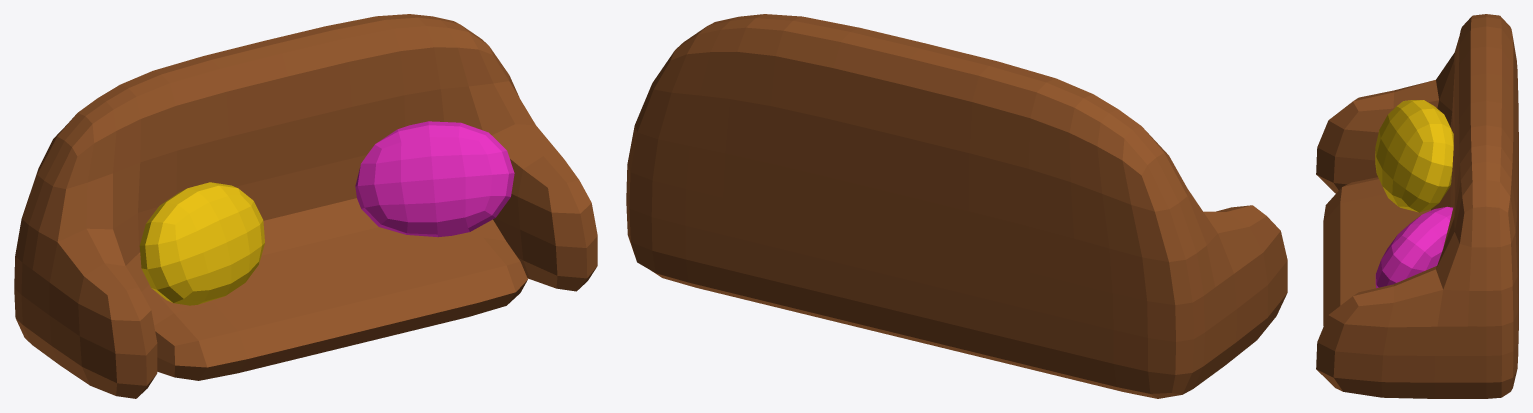
The model's file is Sofa.fbx.
3 views of the same model, side by side, from view 1: azimuth 30°, elevation 25°; view 2: azimuth 150°, elevation 25°; view 3: azimuth 270°, elevation 25° (orthographic). The views are drawn at different scales.
Parts seen in each view (by area): view 1: Cube.001, Cube.003, Cube.002; view 2: Cube.001; view 3: Cube.001, Cube.002, Cube.003.
Boxes of the visible parts, <box> form: Cube.001: <box>14,14,597,398</box>; Cube.003: <box>355,121,514,237</box>; Cube.002: <box>139,182,264,305</box>; Cube.001: <box>626,14,1287,398</box>; Cube.001: <box>1316,14,1518,398</box>; Cube.002: <box>1375,100,1453,212</box>; Cube.003: <box>1375,206,1452,288</box>.
Size of the model in its own units: 809 by 387 by 311.
